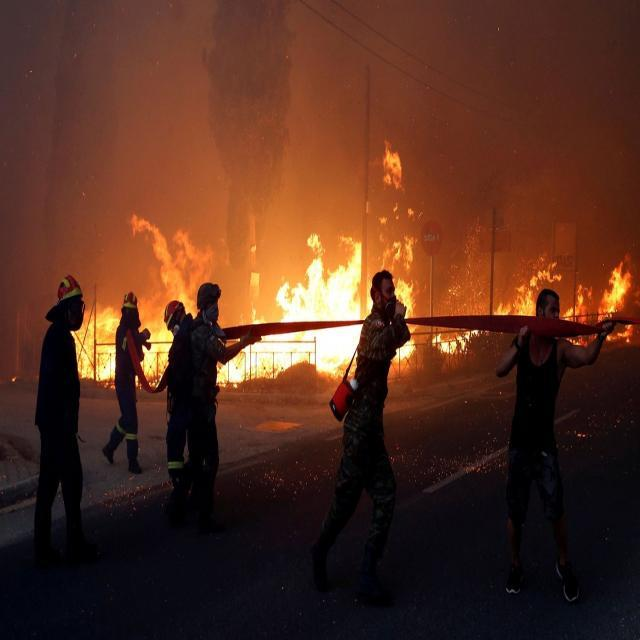Fire: (244, 132, 426, 404), (68, 216, 243, 396), (431, 242, 637, 368)
